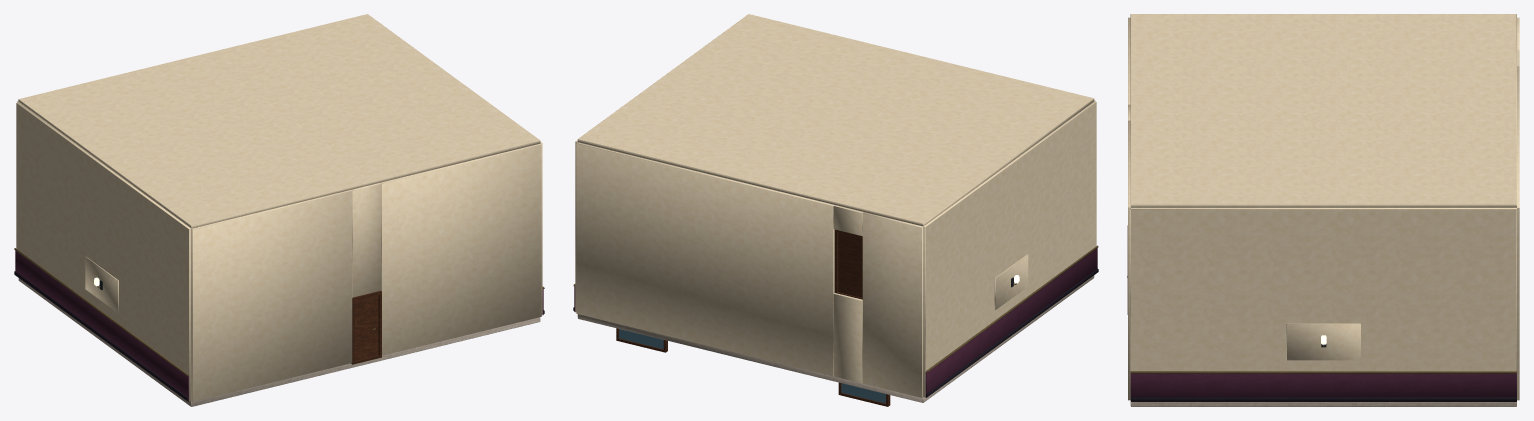
The model's file is explore3d__hotel_lobby.glb.
3 views of the same model, side by side, from view 1: azimuth 30°, elevation 25°; view 2: azimuth 150°, elevation 25°; view 3: azimuth 270°, elevation 25° (orthographic). The views are drawn at different scales.
Visible parts, largest first — view 1: Rebuilt_hotel_lobby; view 2: Rebuilt_hotel_lobby; view 3: Rebuilt_hotel_lobby.
Boxes of the visible parts, x1=… form: Rebuilt_hotel_lobby: x1=14, y1=14, x2=544, y2=406; Rebuilt_hotel_lobby: x1=573, y1=14, x2=1098, y2=406; Rebuilt_hotel_lobby: x1=1127, y1=14, x2=1519, y2=406.
Size of the model in its own units: 14.79 by 7.49 by 12.2.
19 materials, 16 textured.
